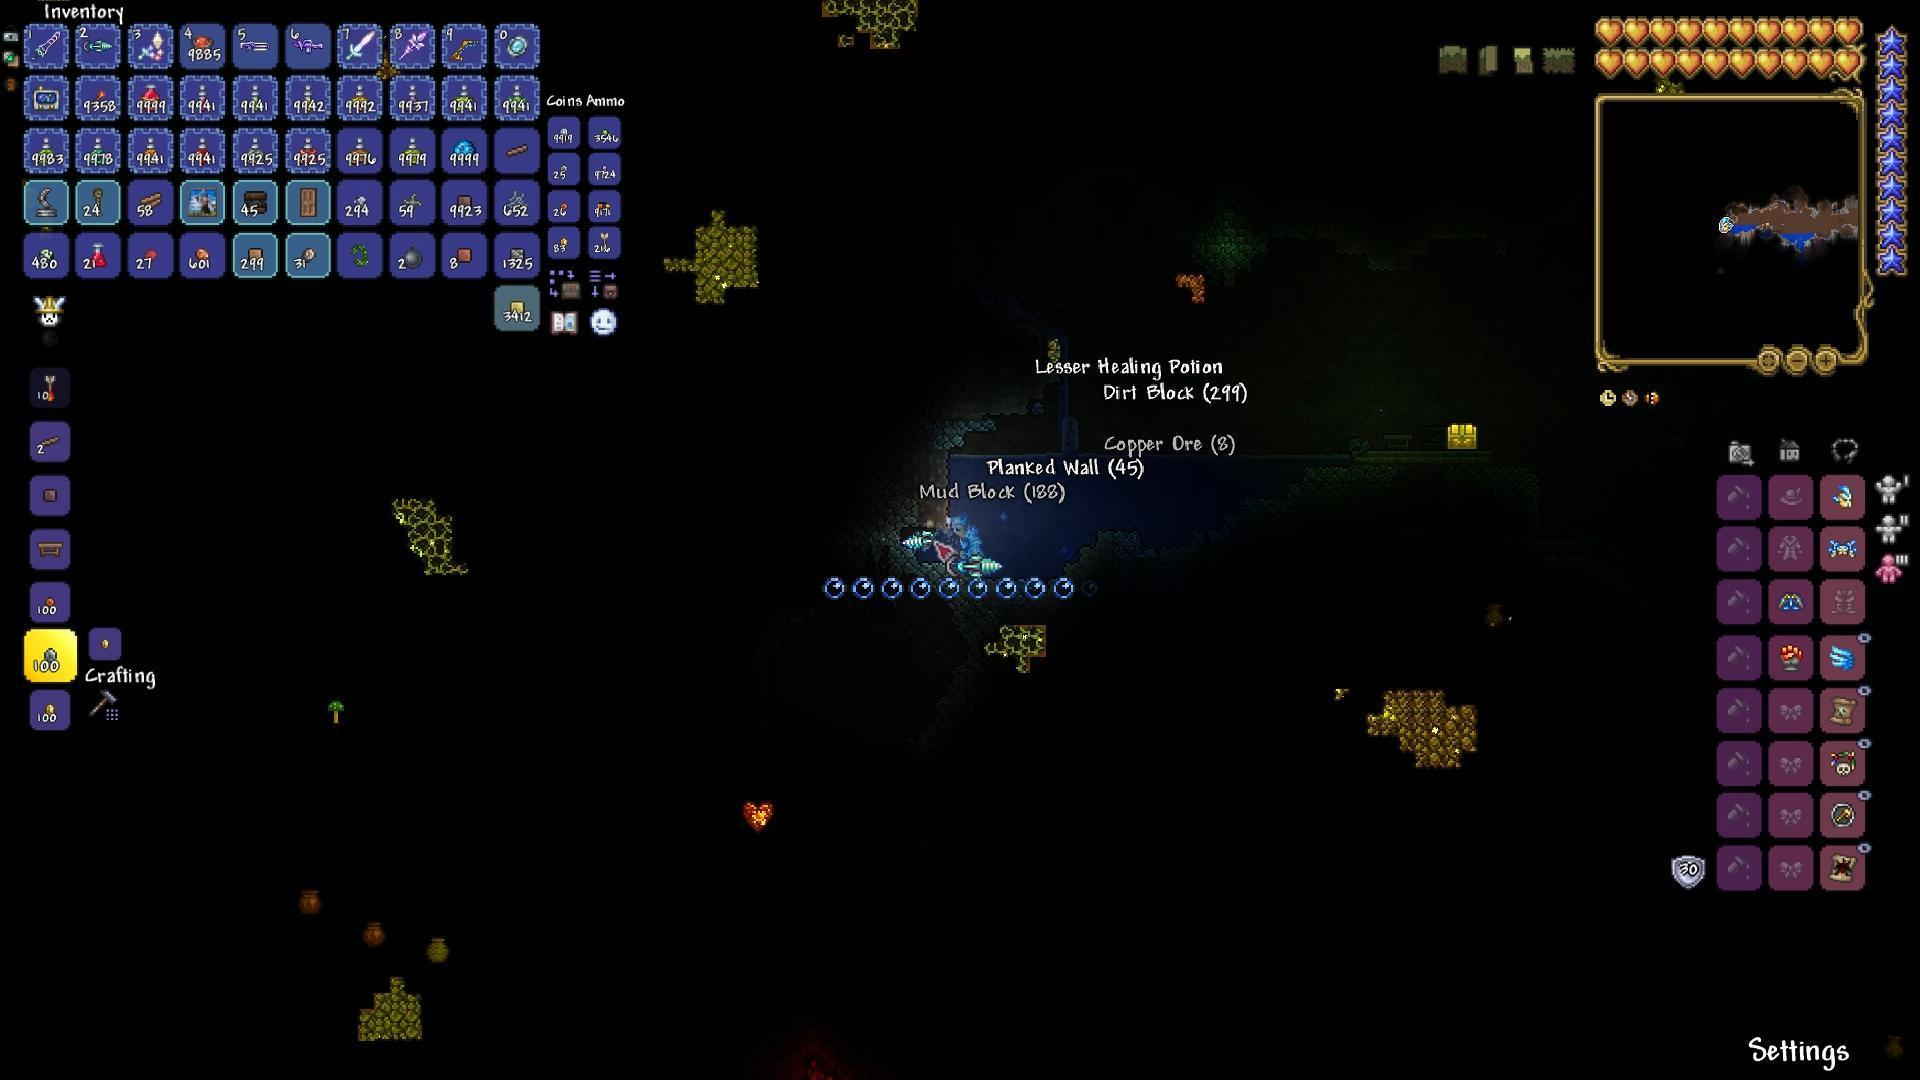chest: (1447, 415, 1480, 450)
lifeC: (737, 793, 778, 836)
pot: (298, 882, 327, 926), (425, 928, 454, 961), (361, 916, 384, 947)
